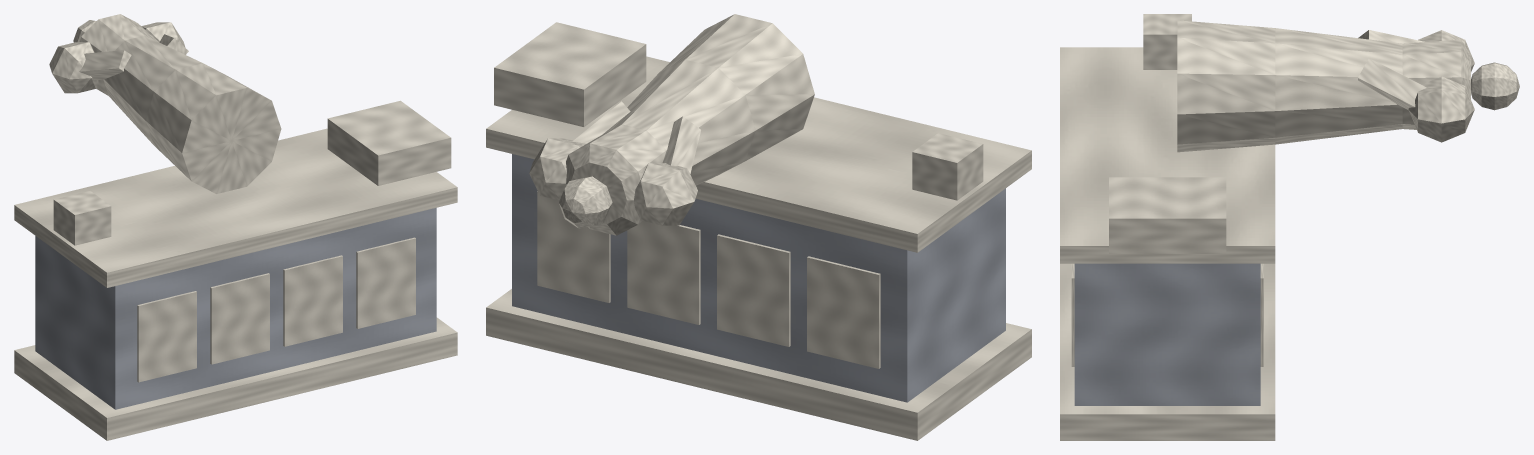
File: vampire-crypt-and-gothic-cathedral-tomb-effigy-d0635d62__23011.glb
3 views of the same model, side by side, from view 1: azimuth 30°, elevation 25°; view 2: azimuth 150°, elevation 25°; view 3: azimuth 270°, elevation 25° (orthographic). The views are drawn at different scales.
Visible parts, largest first — view 1: tomb-effigy; view 2: tomb-effigy; view 3: tomb-effigy.
Part boxes in pixels (<box>): tomb-effigy: <box>14,14,457,440</box>; tomb-effigy: <box>486,14,1031,440</box>; tomb-effigy: <box>1060,14,1519,440</box>.
Bounding box in the file's own units: 2.5 × 1.76 × 2.35.
2 materials, 2 textured.
